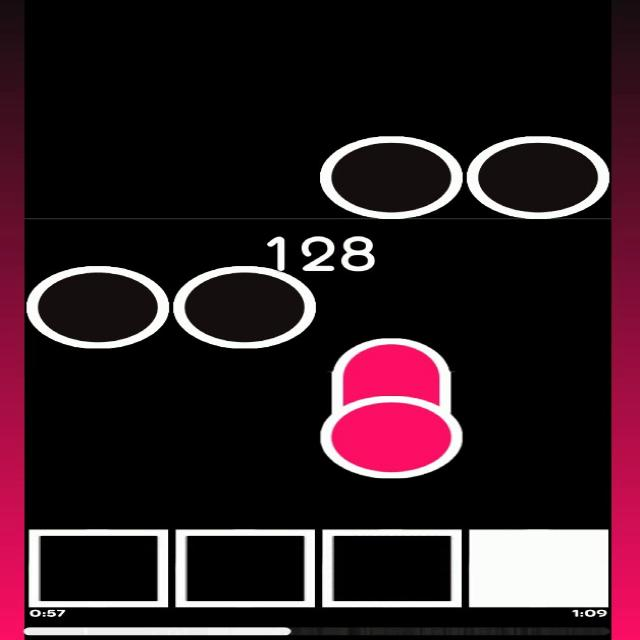end_hold: (323, 330, 460, 375)
note: (172, 267, 316, 351), (319, 136, 466, 218), (467, 135, 610, 219), (26, 268, 168, 350)
start_hold: (320, 384, 463, 480)
